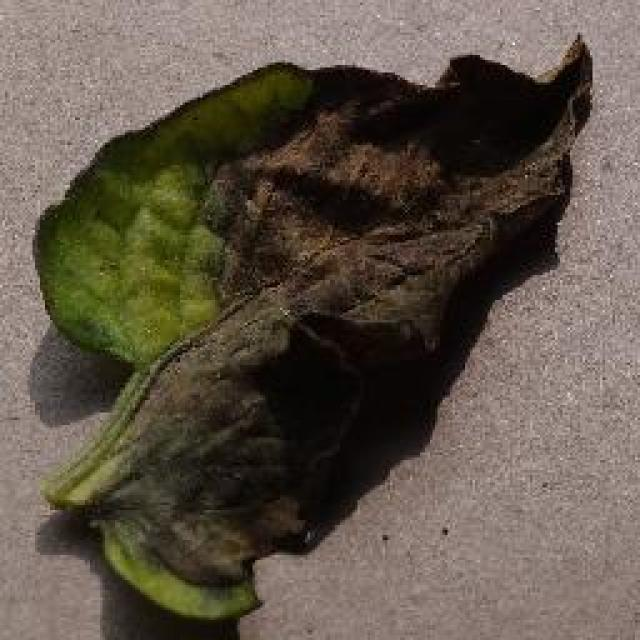Tomato Late Blight: (112, 66, 588, 602)
